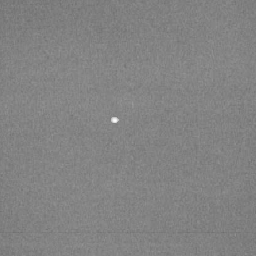Target: (109, 116, 120, 125)
